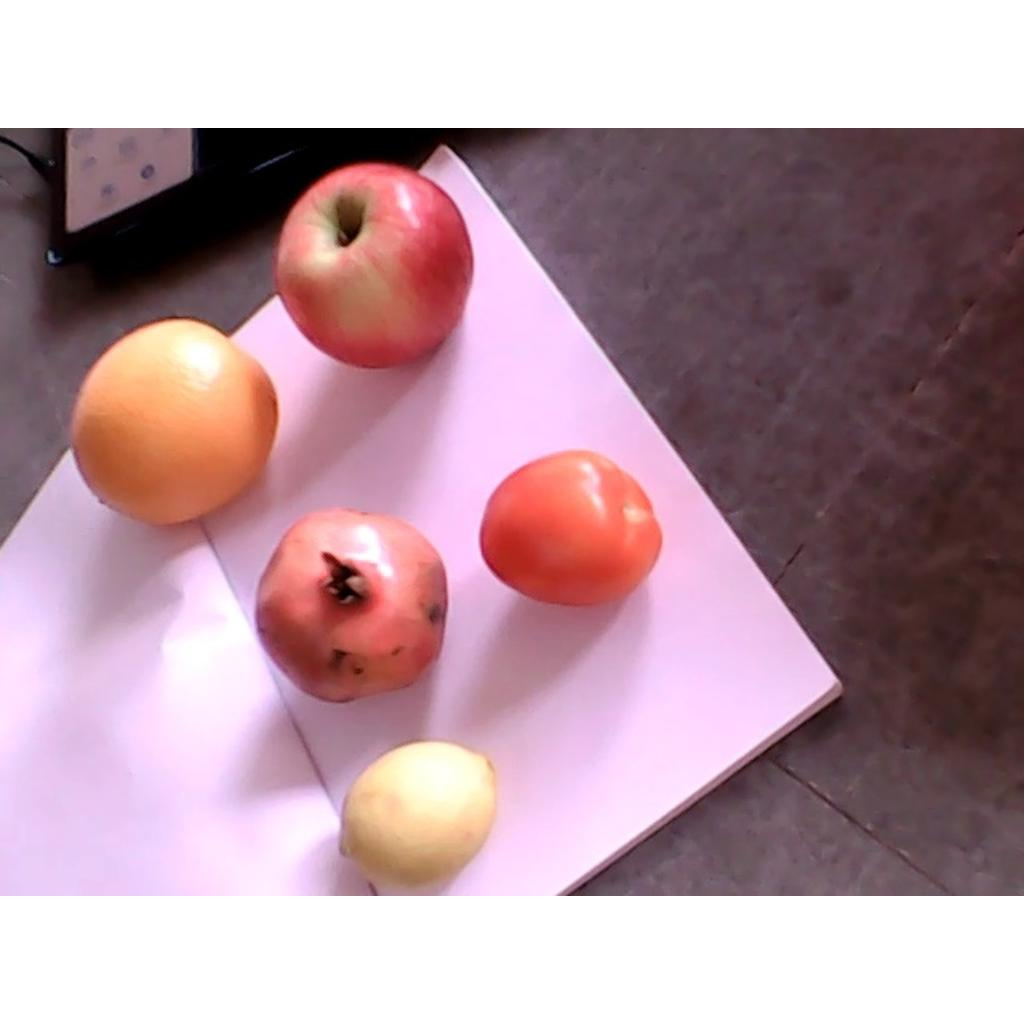apple: (275, 163, 472, 369)
lemon: (338, 741, 497, 882)
orange: (71, 317, 277, 526)
pomegranate: (255, 506, 448, 704)
tomato: (480, 450, 661, 608)
